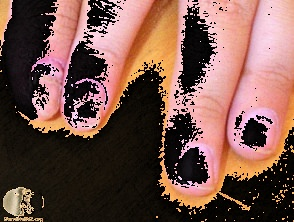Nail_psoriasis: (27, 71, 66, 125)
